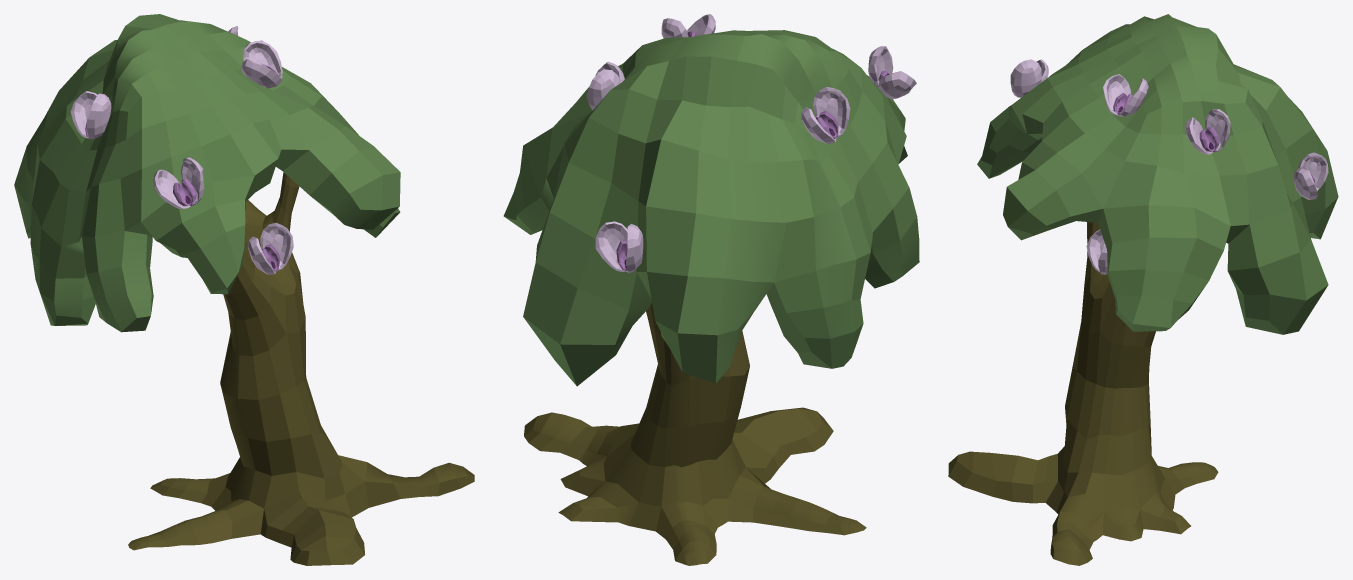
File: mudaFlor (1).fbx
The picture shows the model from 3 angles, left to right: view 1: azimuth 30°, elevation 25°; view 2: azimuth 150°, elevation 25°; view 3: azimuth 270°, elevation 25°; orthographic projection. The views are drawn at different scales.
Parts seen in each view (by area): view 1: mudaFlor; view 2: mudaFlor; view 3: mudaFlor.
Boxes of the visible parts, x1,y1,x2,y2 form: mudaFlor: (14,14,474,565); mudaFlor: (503,14,919,565); mudaFlor: (948,14,1338,565).
Size of the model in its own units: 66.2 by 82.55 by 66.82.
